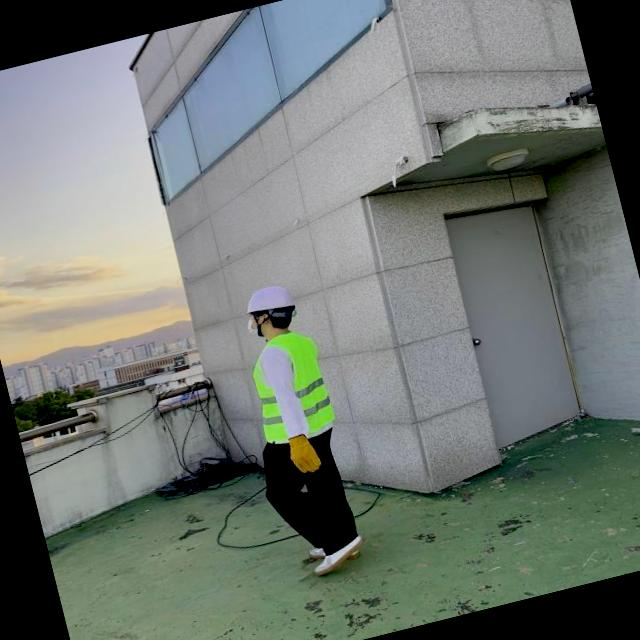vest: (242, 326, 338, 443)
